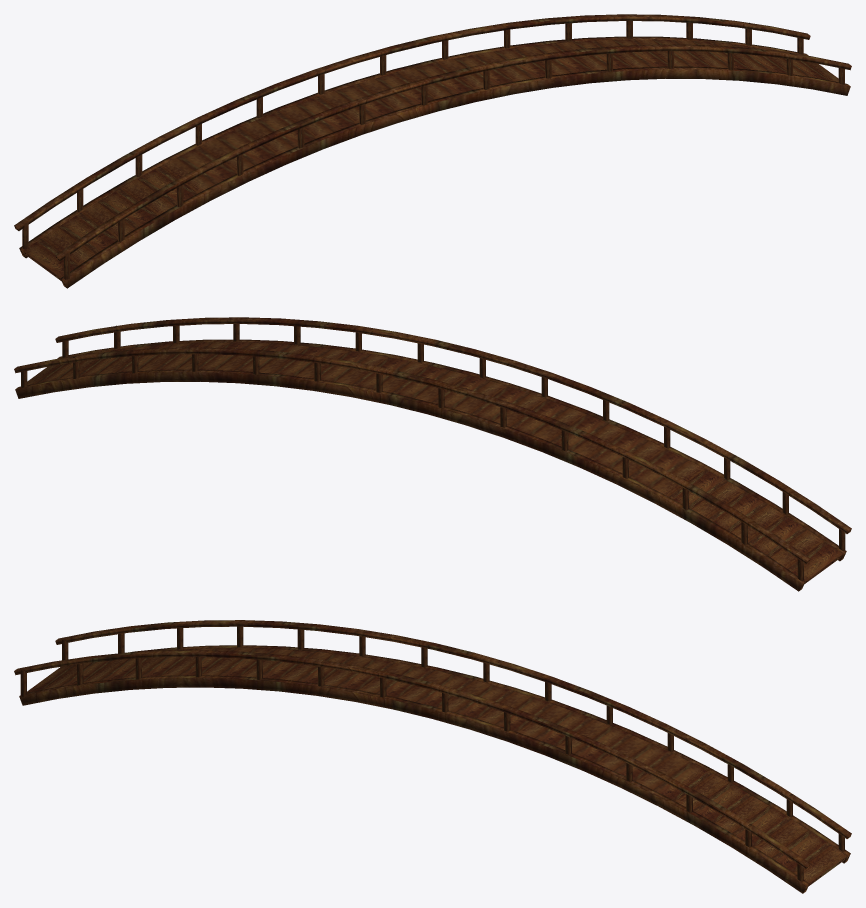
File: bridge (1).fbx
3 views of the same model, one above another, from view 1: azimuth 30°, elevation 25°; view 2: azimuth 150°, elevation 25°; view 3: azimuth 330°, elevation 25° (orthographic).
Visible parts, largest first — view 1: Cylinder.026, Cylinder.025, Cylinder.028, Cylinder.030, Cylinder.029; view 2: Cylinder.026, Cylinder.029, Cylinder.030, Cylinder.028, Cylinder.025; view 3: Cylinder.026, Cylinder.025, Cylinder.028, Cylinder.030, Cylinder.029.
Part boxes in pixels (x1,y1,x2,y2): Cylinder.026: [23, 39, 838, 280]; Cylinder.025: [60, 66, 850, 288]; Cylinder.028: [55, 44, 851, 261]; Cylinder.030: [14, 14, 810, 230]; Cylinder.029: [19, 36, 808, 258]; Cylinder.026: [27, 342, 842, 583]; Cylinder.029: [15, 369, 805, 591]; Cylinder.030: [14, 347, 810, 564]; Cylinder.028: [55, 317, 851, 533]; Cylinder.025: [57, 339, 846, 561]; Cylinder.026: [27, 648, 846, 886]; Cylinder.025: [19, 675, 809, 893]; Cylinder.028: [14, 650, 810, 869]; Cylinder.030: [55, 620, 851, 838]; Cylinder.029: [128, 645, 850, 863].
Size of the model in its own units: 6780 by 979 by 663.
Materials: 3 (3 with a texture image).
